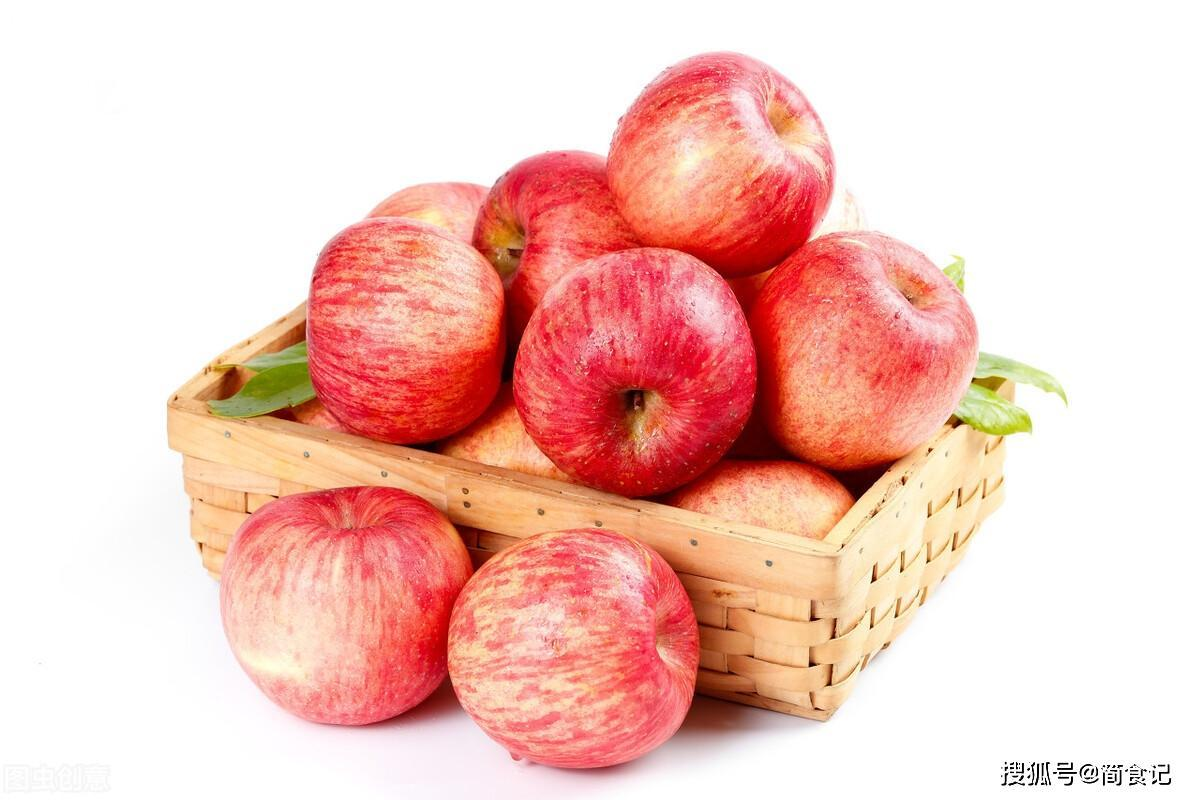apple: (446, 522, 700, 769), (511, 248, 758, 498), (218, 486, 473, 723), (744, 230, 977, 470), (601, 51, 835, 280), (299, 219, 508, 442), (472, 148, 644, 332)
